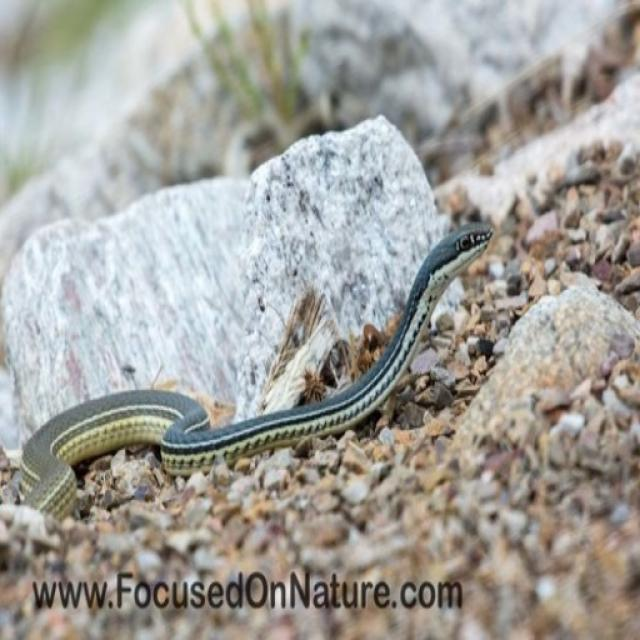snake: (11, 207, 512, 566)
